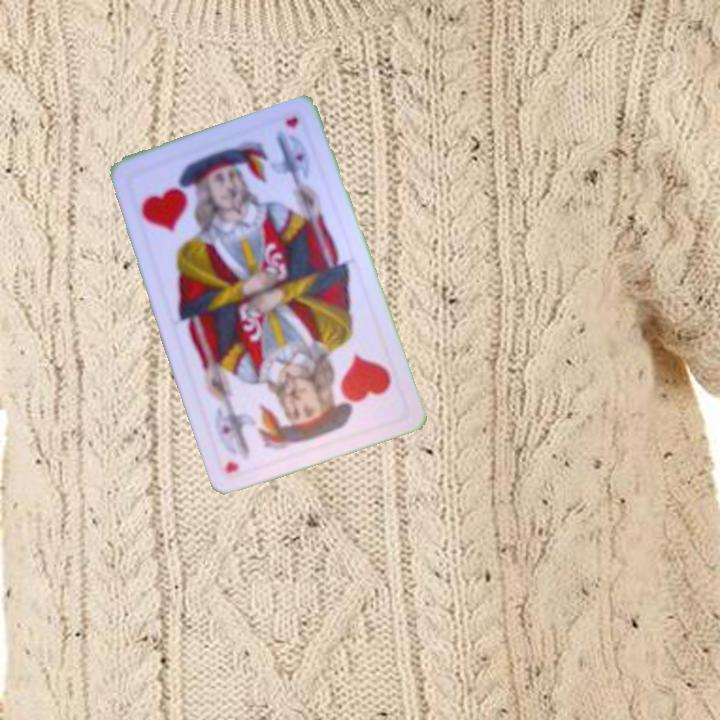h_j.png: (122, 142, 242, 255), (287, 335, 408, 447)
